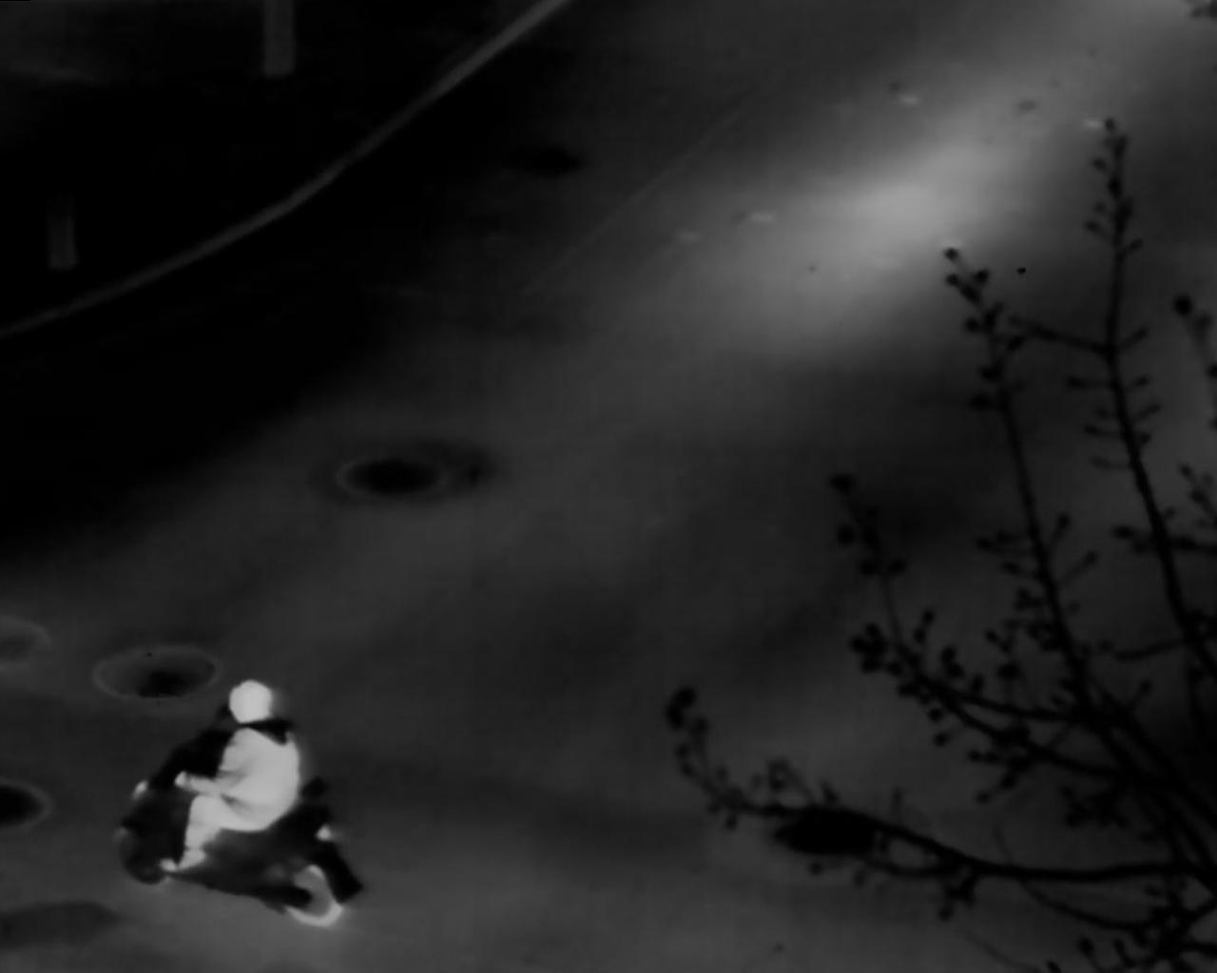person: (157, 677, 299, 869)
